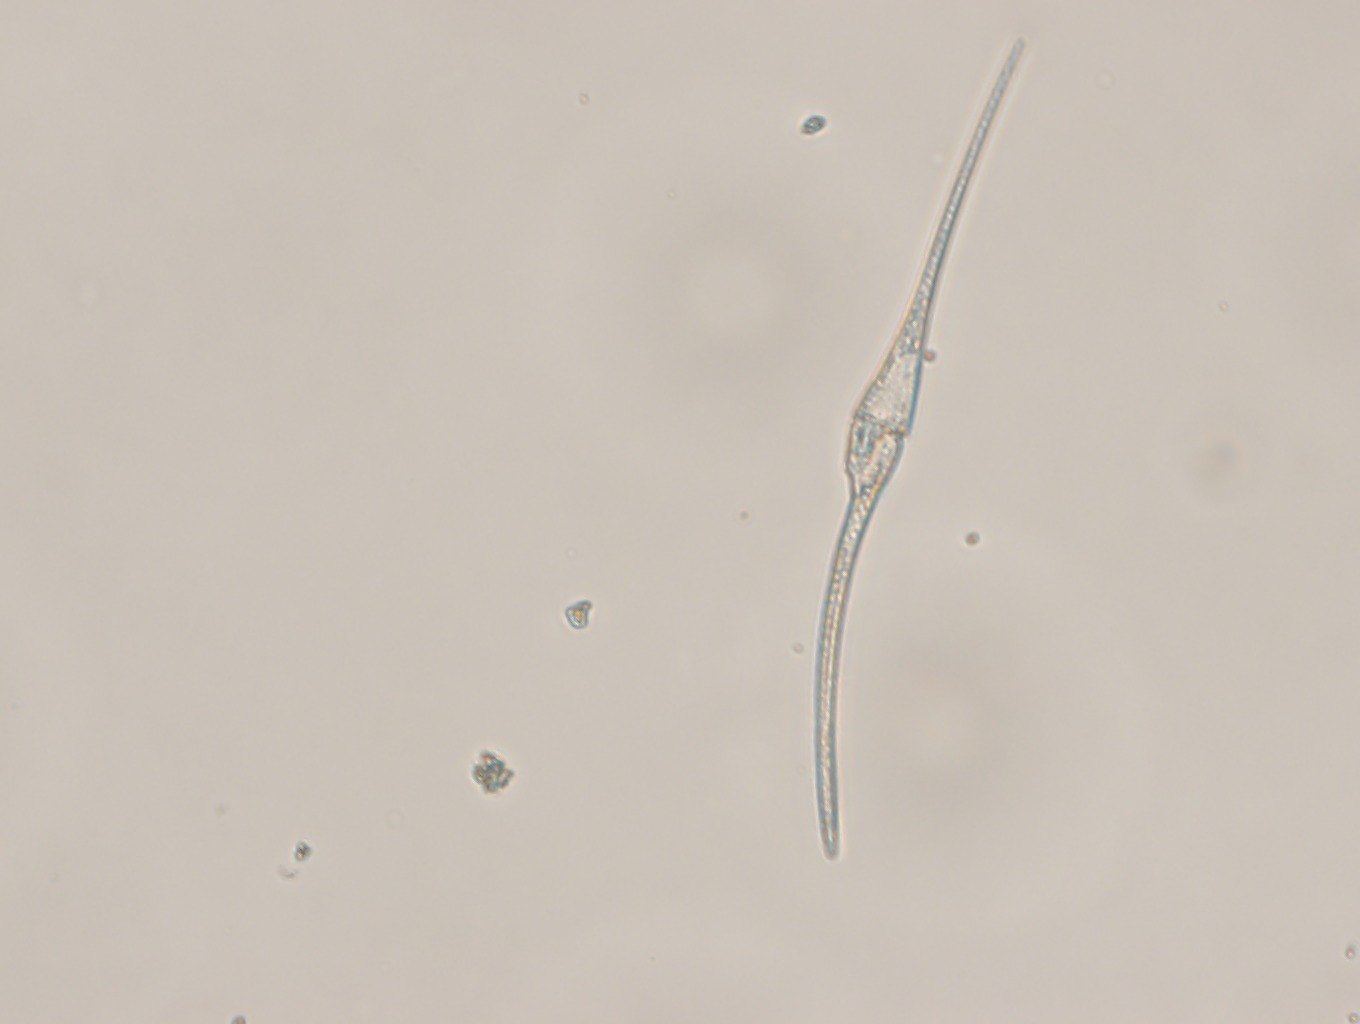ceratium fusus: (799, 33, 1036, 859)
